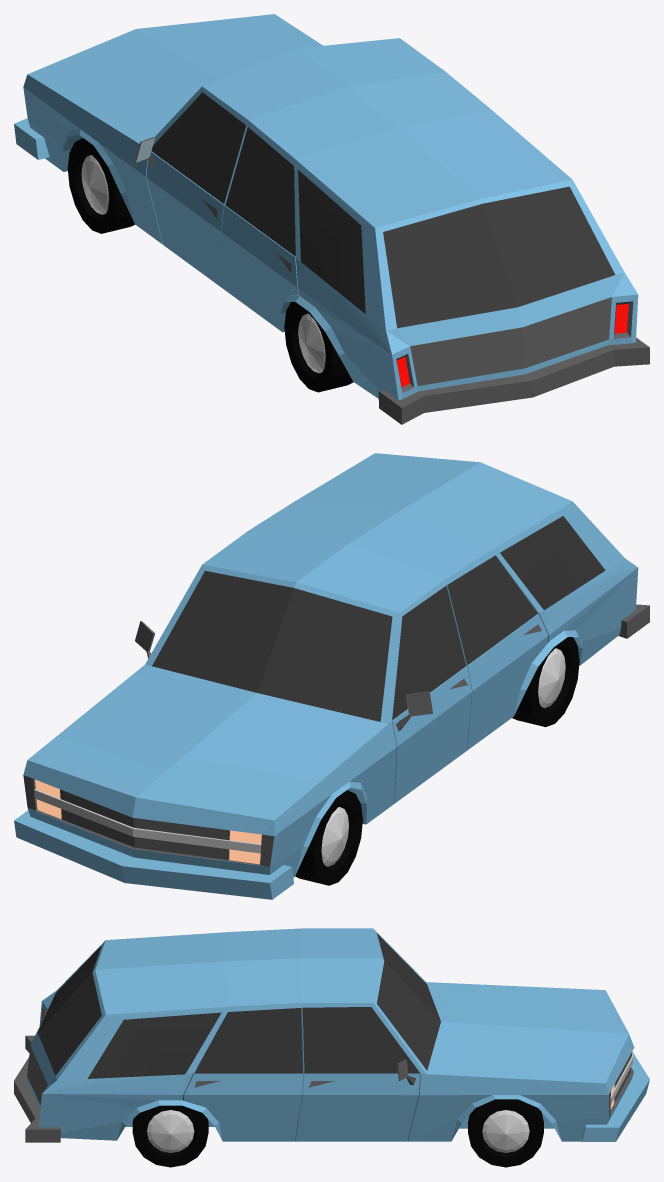
Rendered from Car_Long_7.glb.
3 renders of one model, top to bottom at view 1: azimuth 30°, elevation 25°; view 2: azimuth 150°, elevation 25°; view 3: azimuth 270°, elevation 25°, orthographic. The views are drawn at different scales.
Visible parts, largest first — view 1: wagon_A_Body.007, wagon_A_DoorL.007, wagon_A_DoorL2.007, wagon_AwheelFL.007, wagon_AwheelRL.007; view 2: wagon_A_Body.007, wagon_A_DoorL.007, wagon_A_DoorL2.007, wagon_AwheelFL.007, wagon_AwheelRL.007; view 3: wagon_A_Body.007, wagon_A_DoorR.007, wagon_A_DoorR2.007, wagon_AwheelFR.007, wagon_AwheelRR.007.
Part boxes in pixels (x1,y1,x2,y2): wagon_A_Body.007: [14, 14, 649, 424]; wagon_A_DoorL.007: [135, 92, 246, 297]; wagon_A_DoorL2.007: [221, 127, 299, 332]; wagon_AwheelFL.007: [67, 138, 134, 233]; wagon_AwheelRL.007: [284, 302, 353, 392]; wagon_A_Body.007: [14, 453, 649, 899]; wagon_A_DoorL.007: [392, 585, 471, 803]; wagon_A_DoorL2.007: [447, 555, 548, 750]; wagon_AwheelFL.007: [295, 790, 362, 885]; wagon_AwheelRL.007: [512, 635, 579, 727]; wagon_A_Body.007: [14, 928, 649, 1142]; wagon_A_DoorR.007: [295, 1007, 420, 1141]; wagon_A_DoorR2.007: [183, 1008, 303, 1141]; wagon_AwheelFR.007: [468, 1099, 543, 1167]; wagon_AwheelRR.007: [132, 1094, 208, 1167].
Size of the model in its own units: 2.1 by 1.42 by 5.01.
